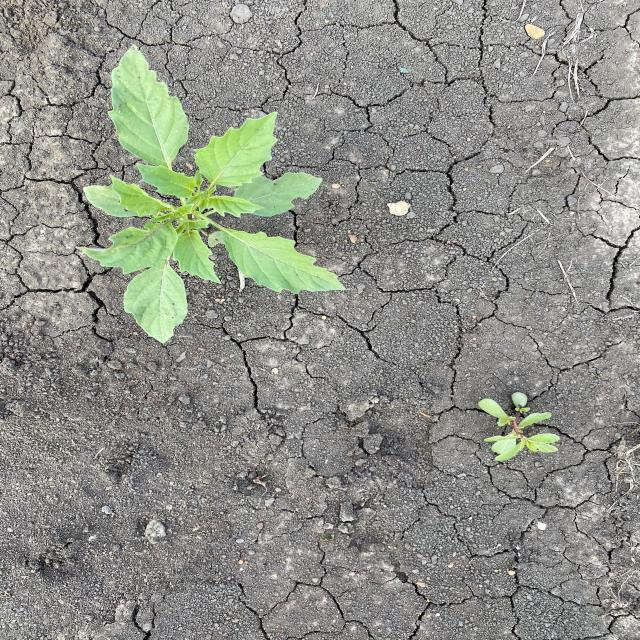CutleafGroundcherry: (72, 41, 351, 345)
Purslane: (474, 388, 564, 466)
